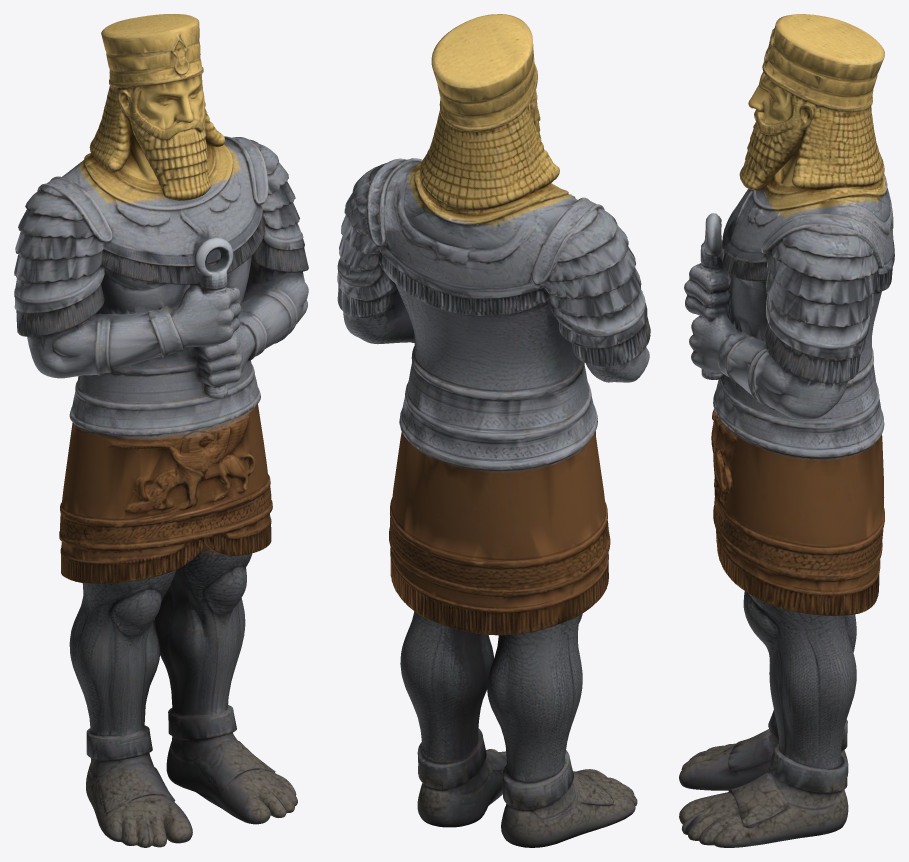
File: statue_v11d_lod.glb
3 views of the same model, side by side, from view 1: azimuth 30°, elevation 25°; view 2: azimuth 150°, elevation 25°; view 3: azimuth 270°, elevation 25° (orthographic). The views are drawn at different scales.
Visible parts, largest first — view 1: chest_silver, belly_bronze, legs_iron, head_gold, feet_clay; view 2: chest_silver, belly_bronze, head_gold, legs_iron, feet_clay; view 3: chest_silver, belly_bronze, head_gold, feet_clay, legs_iron.
Boxes of the visible parts, <box> form: chest_silver: <box>14,136,308,438</box>; belly_bronze: <box>59,404,272,583</box>; legs_iron: <box>69,553,252,745</box>; head_gold: <box>79,14,240,203</box>; feet_clay: <box>86,708,297,847</box>; chest_silver: <box>337,158,650,471</box>; belly_bronze: <box>389,431,610,635</box>; head_gold: <box>408,14,573,226</box>; legs_iron: <box>400,611,582,777</box>; feet_clay: <box>417,741,637,847</box>; chest_silver: <box>684,179,894,459</box>; belly_bronze: <box>711,409,884,615</box>; head_gold: <box>739,14,886,218</box>; feet_clay: <box>679,713,848,847</box>; legs_iron: <box>743,591,856,768</box>.
Bounding box in the file's own units: 0.3873 × 1 × 0.2508.
Materials: 1 (1 with a texture image).
